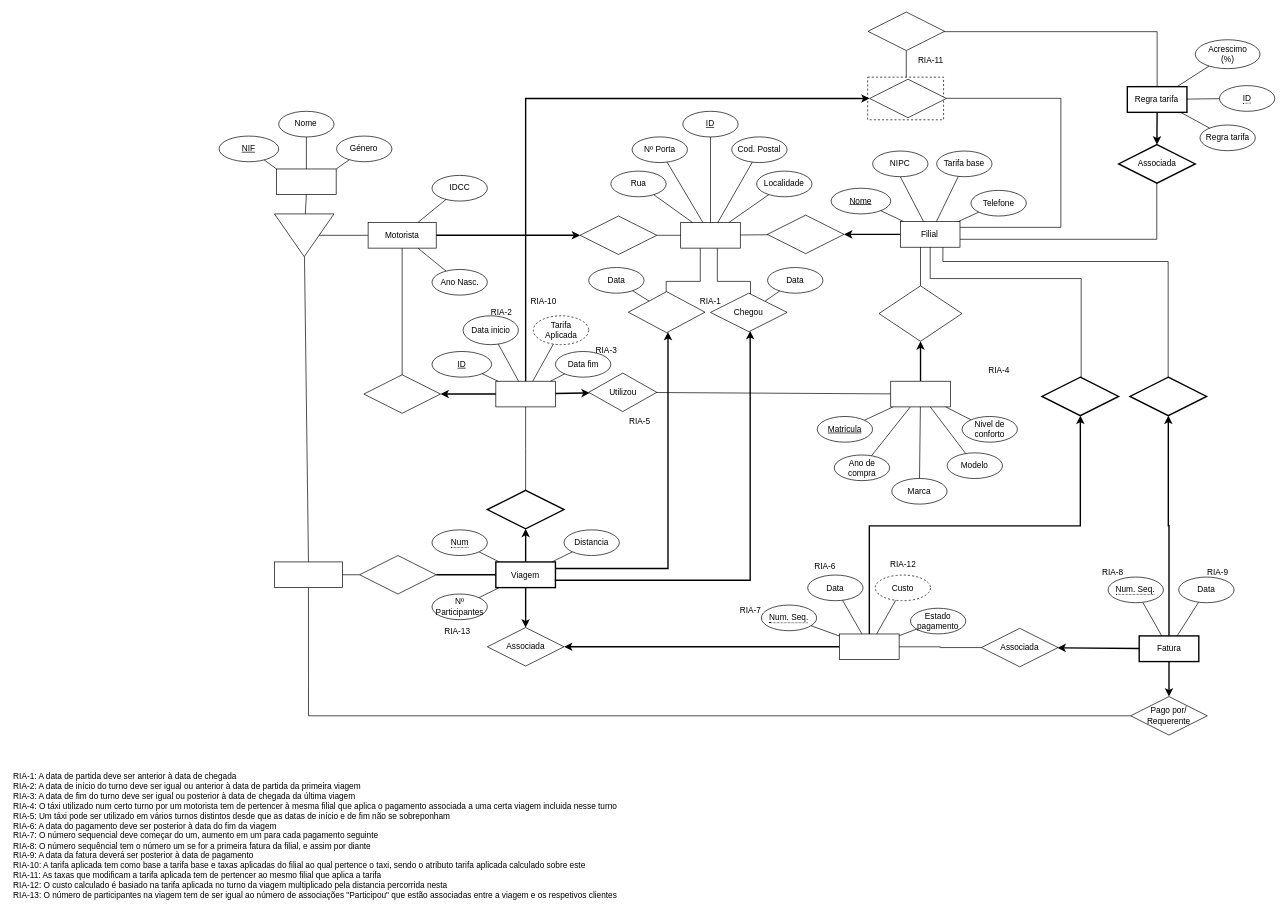
Some shapes in this 1287 by 917 pixel diagram are drawn without their labels. Each missing label, with the centre of its shape:
"Aplica" goes at (x=1080, y=396).
"Aplica tarifa" goes at (x=907, y=98).
"Cliente" goes at (x=308, y=574).
"Contem na Frota" goes at (x=920, y=313).
"Em" goes at (x=805, y=234).
"Emite" goes at (x=1168, y=396).
"Incluido" goes at (x=525, y=509).
"ISA" goes at (x=304, y=235).
"Modifica a tarifa base" goes at (x=906, y=31).
"Morada" goes at (x=710, y=235).
"Pagamento" goes at (x=869, y=646).
"Participou" goes at (x=397, y=574).
"Partiu" goes at (x=666, y=312).
"Pessoa" goes at (x=306, y=181).
"Reside" goes at (x=618, y=235).
"Taxi" goes at (x=920, y=394).
"Trabalhou" goes at (x=401, y=393).
"Turno" goes at (x=525, y=394).
